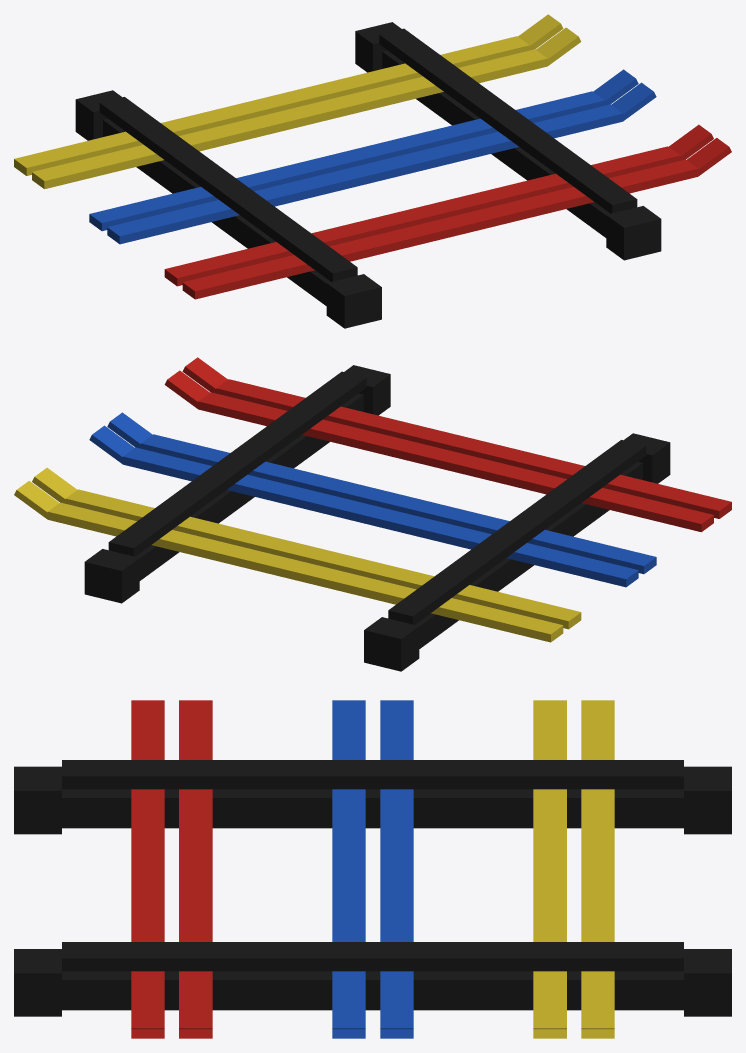
File: car_roof_rack.obj
3 views of the same model, one above another, from view 1: azimuth 30°, elevation 25°; view 2: azimuth 150°, elevation 25°; view 3: azimuth 270°, elevation 25° (orthographic). The views are drawn at different scales.
Bounding box in the file's own units: 1.73 × 0.1388 × 1.5.
